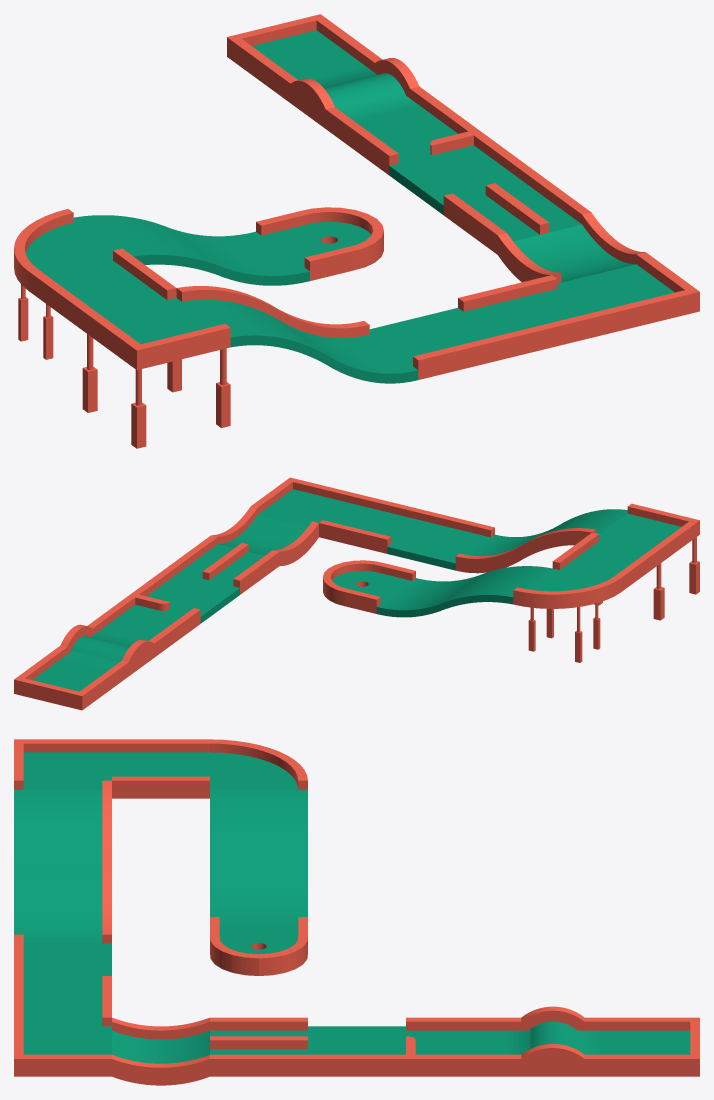
File: Level3.fbx
3 renders of one model, top to bottom at view 1: azimuth 30°, elevation 25°; view 2: azimuth 150°, elevation 25°; view 3: azimuth 270°, elevation 25°, orthographic. The views are drawn at different scales.
Visible parts, largest first — view 1: corner (×2), straight (×2), side (×2), slope_side_smoothD_long, slope_center_smoothC_long, end, end_roundHole, straight_bump, straight_mid, straight_gap, valley, bend_open (+1 smaller); view 2: straight (×2), corner (×2), side (×2), slope_center_smoothC_long, slope_side_smoothD_long, end, straight_gap, straight_bump, end_roundHole, straight_mid, valley, bend_open (+1 smaller); view 3: slope_side_smoothD_long, slope_center_smoothC_long, straight (×2), corner (×2), side (×2), straight_bump, straight_mid, end, straight_gap, valley, end_roundHole, bend_open.
Boxes of the visible parts, bbox=[...] form: corner (×2): bbox=[82, 252, 699, 369]; straight (×2): bbox=[28, 248, 605, 356]; side (×2): bbox=[369, 133, 536, 379]; slope_side_smoothD_long: bbox=[176, 286, 418, 383]; slope_center_smoothC_long: bbox=[73, 215, 309, 285]; end: bbox=[227, 14, 374, 95]; end_roundHole: bbox=[256, 207, 383, 280]; straight_bump: bbox=[281, 54, 428, 135]; straight_mid: bbox=[443, 173, 591, 254]; straight_gap: bbox=[335, 93, 482, 175]; valley: bbox=[497, 212, 645, 283]; bend_open: bbox=[14, 209, 112, 290]; straight (×2): bbox=[319, 494, 660, 591]; corner (×2): bbox=[251, 477, 699, 562]; side (×2): bbox=[132, 511, 494, 623]; slope_center_smoothC_long: bbox=[376, 566, 552, 617]; slope_side_smoothD_long: bbox=[455, 509, 627, 573]; end: bbox=[14, 650, 121, 710]; straight_gap: bbox=[93, 593, 200, 652]; straight_bump: bbox=[54, 622, 161, 681]; end_roundHole: bbox=[323, 560, 415, 613]; straight_mid: bbox=[172, 535, 279, 594]; valley: bbox=[212, 506, 318, 565]; bend_open: bbox=[513, 568, 620, 608]; slope_side_smoothD_long: bbox=[14, 780, 111, 943]; slope_center_smoothC_long: bbox=[210, 789, 307, 925]; straight (×2): bbox=[14, 739, 209, 1026]; corner (×2): bbox=[14, 739, 111, 1076]; side (×2): bbox=[14, 934, 405, 1076]; straight_bump: bbox=[504, 1006, 601, 1076]; straight_mid: bbox=[210, 1017, 307, 1076]; end: bbox=[602, 1017, 699, 1076]; straight_gap: bbox=[406, 1017, 503, 1076]; valley: bbox=[112, 1017, 209, 1085]; end_roundHole: bbox=[210, 917, 307, 975]; bend_open: bbox=[210, 739, 307, 789].
Size of the model in its own units: 60 by 11 by 70.
